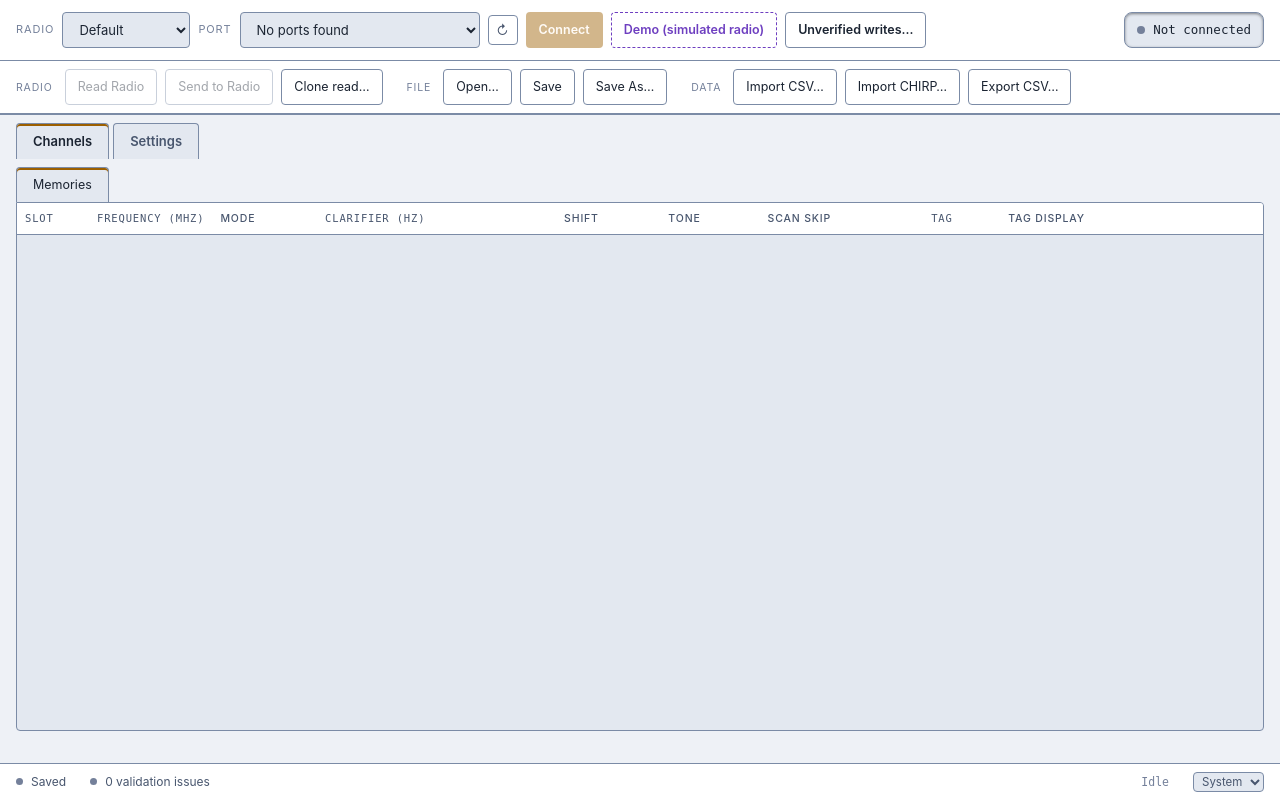
Test: Channels|Settings view switch › switching to Settings renders SettingsViewer; back to Channels renders ChannelGrid, appState intact both ways
The image size is (1280, 800).
Click the tab "Settings" at point(156, 141), box [113,123,199,159]
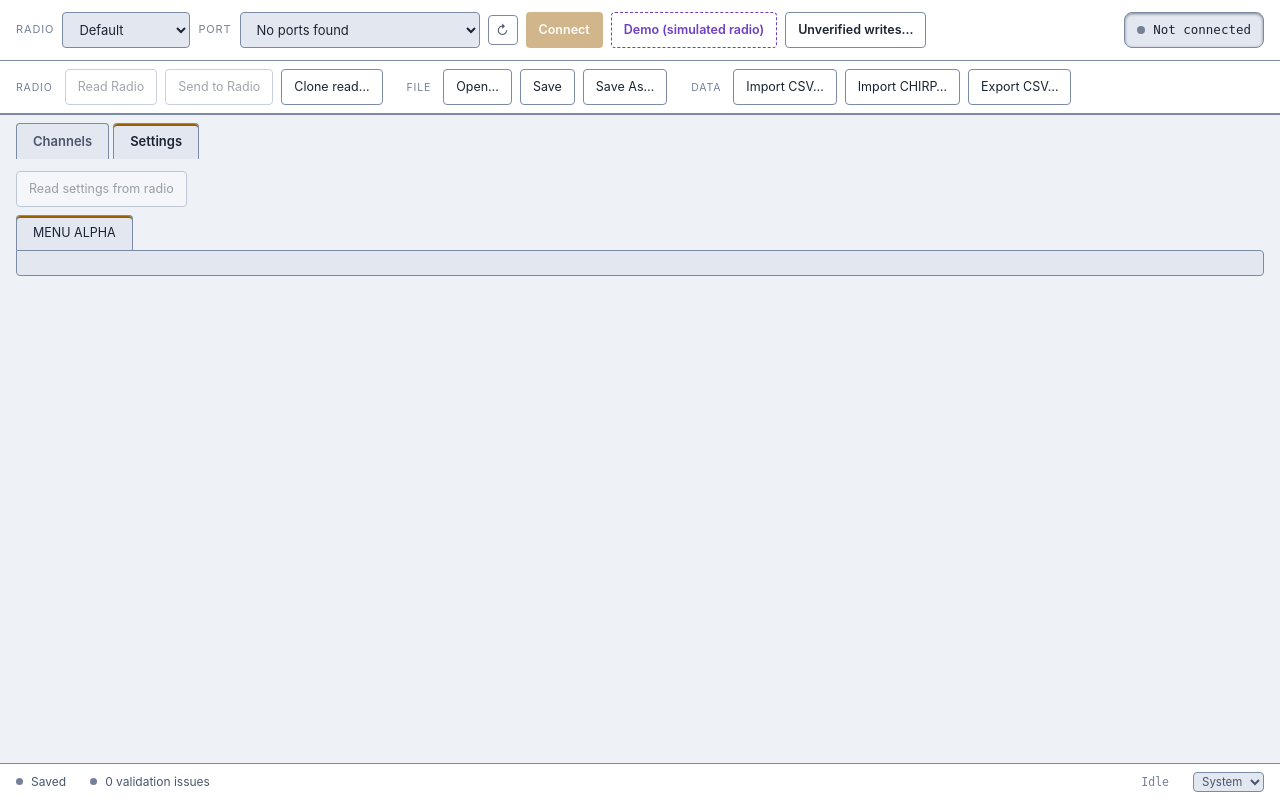
Check: the tab "MENU ALPHA" is shown, box [16,215,133,250]
Click the tab "Channels" at point(63, 141), box [16,123,109,159]
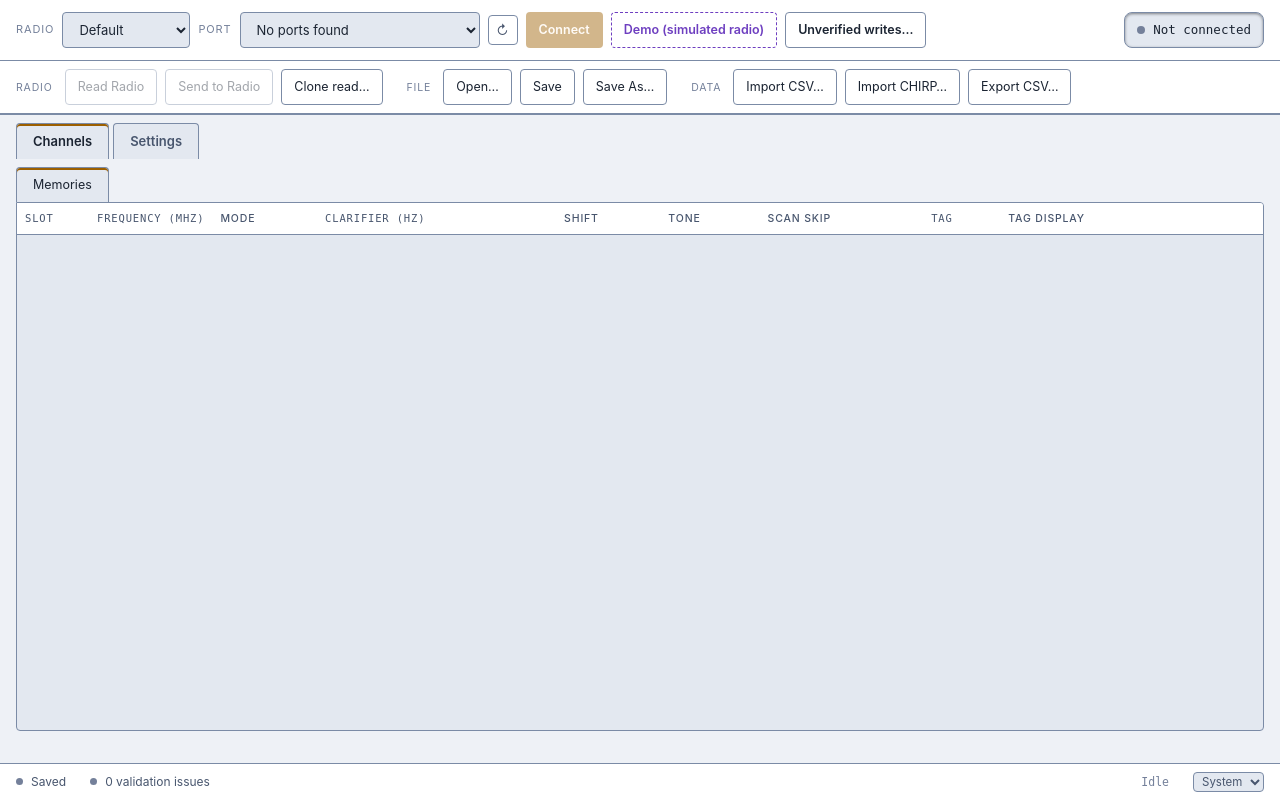
Check: the table is shown, box [17,203,1263,235]
Check: the tab "MENU ALPHA" is gone
